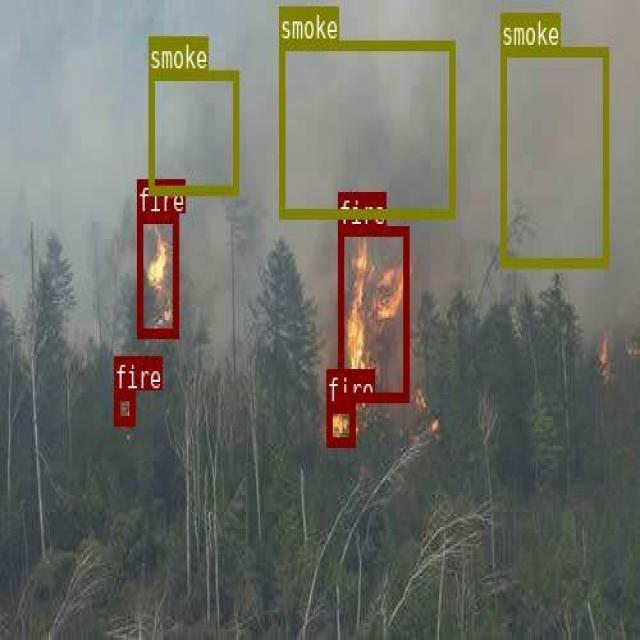fire: (337, 225, 408, 400), (137, 212, 178, 336), (326, 402, 354, 445), (113, 389, 134, 423)
smoke: (278, 40, 453, 218), (500, 45, 607, 264), (148, 68, 237, 194)
